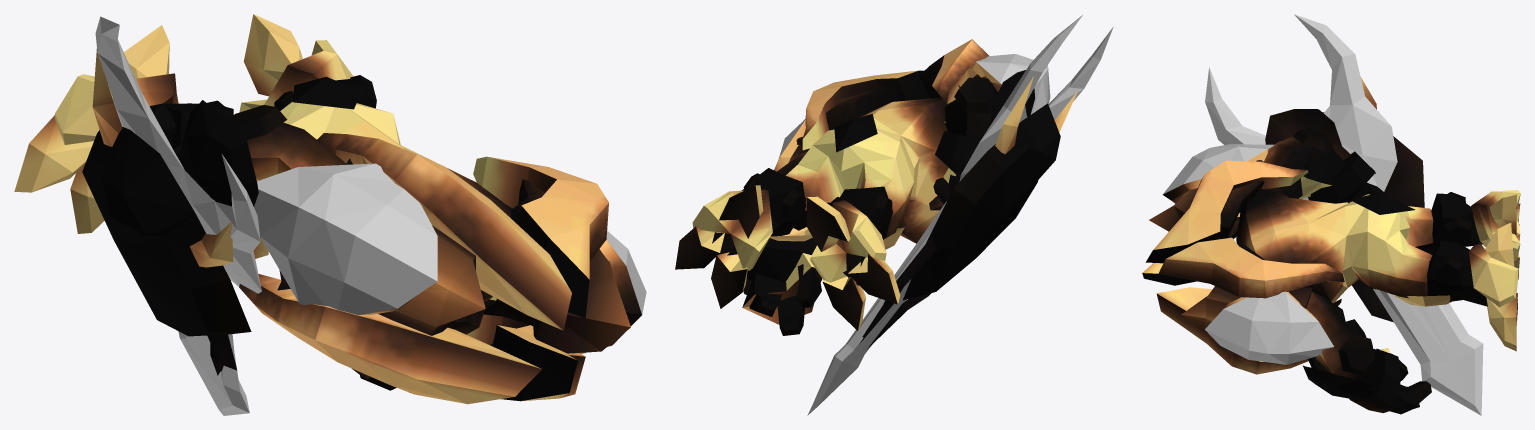
Rendered from bileiweibing.obj.
The picture shows the model from 3 angles, left to right: view 1: azimuth 30°, elevation 25°; view 2: azimuth 150°, elevation 25°; view 3: azimuth 270°, elevation 25°; orthographic projection. The views are drawn at different scales.
Parts seen in each view (by area): view 1: bileiweibing01, Object02, Line03, Object01; view 2: bileiweibing01, Line03, Object02; view 3: bileiweibing01, Line03, Object01, Object02.
Boxes of the visible parts, x1,y1,x2,y2 form: bileiweibing01: (14,14,641,404); Object02: (254,163,437,314); Line03: (95,16,261,415); Object01: (581,231,646,353); bileiweibing01: (675,39,1077,348); Line03: (807,15,1113,415); Object02: (976,54,1050,114); bileiweibing01: (1142,76,1520,414); Line03: (1205,14,1483,415); Object01: (1205,292,1333,364); Object02: (1163,144,1274,194).
Bounding box in the file's own units: 167 × 179 × 188.
